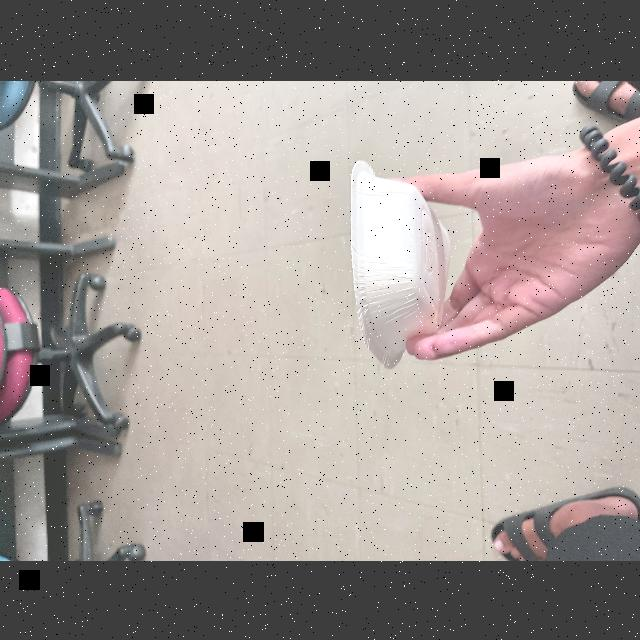cardboard_bowl: (343, 154, 449, 370)
